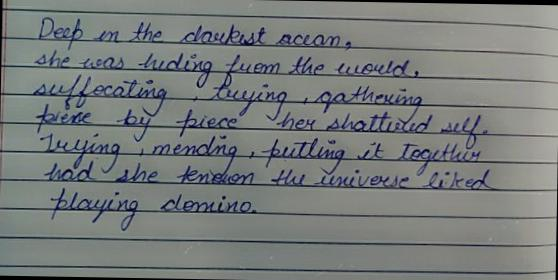text: (38, 130, 483, 180), (32, 102, 490, 150), (32, 71, 423, 123), (33, 47, 419, 92), (43, 159, 496, 192), (34, 14, 353, 56), (49, 186, 258, 234)
